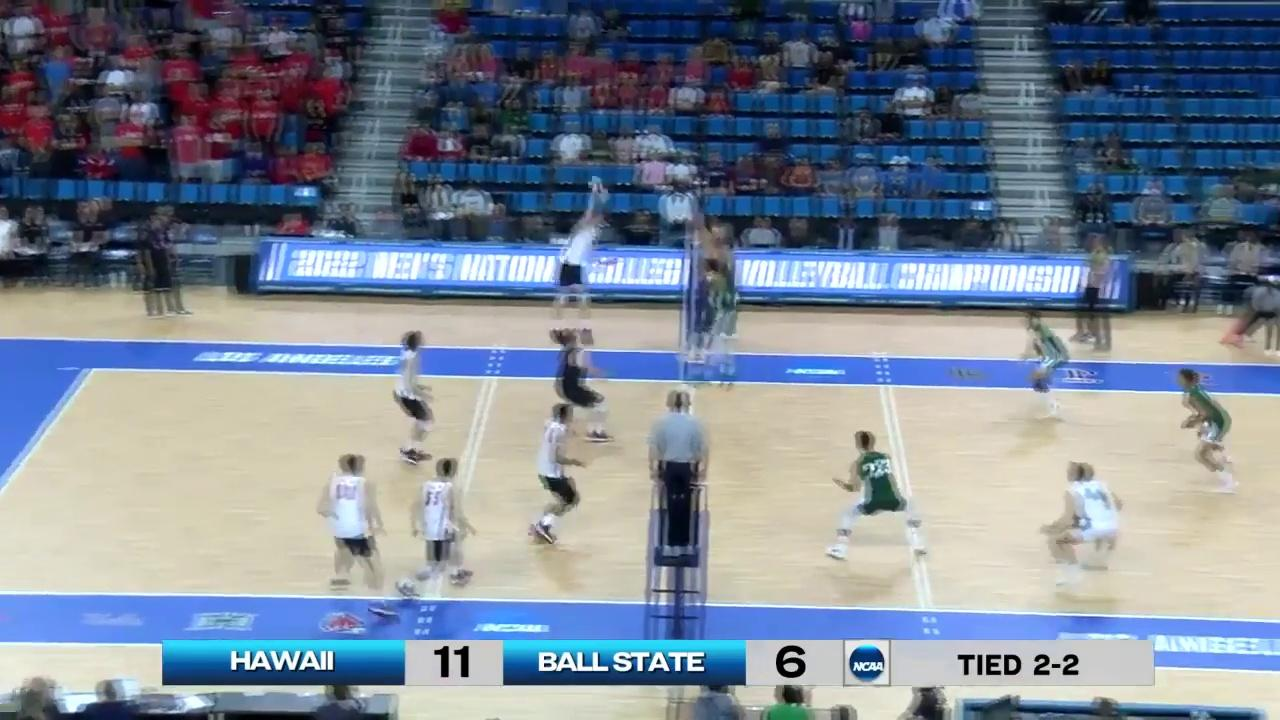player: (821, 432, 924, 561), (1045, 461, 1124, 592), (402, 462, 471, 597), (316, 453, 381, 595), (529, 402, 586, 547), (549, 207, 606, 344), (1174, 370, 1237, 493), (1009, 306, 1069, 429), (551, 327, 609, 440), (394, 330, 441, 461), (707, 243, 740, 379), (692, 254, 727, 381)
refree: (651, 390, 711, 546), (1226, 277, 1280, 356)
